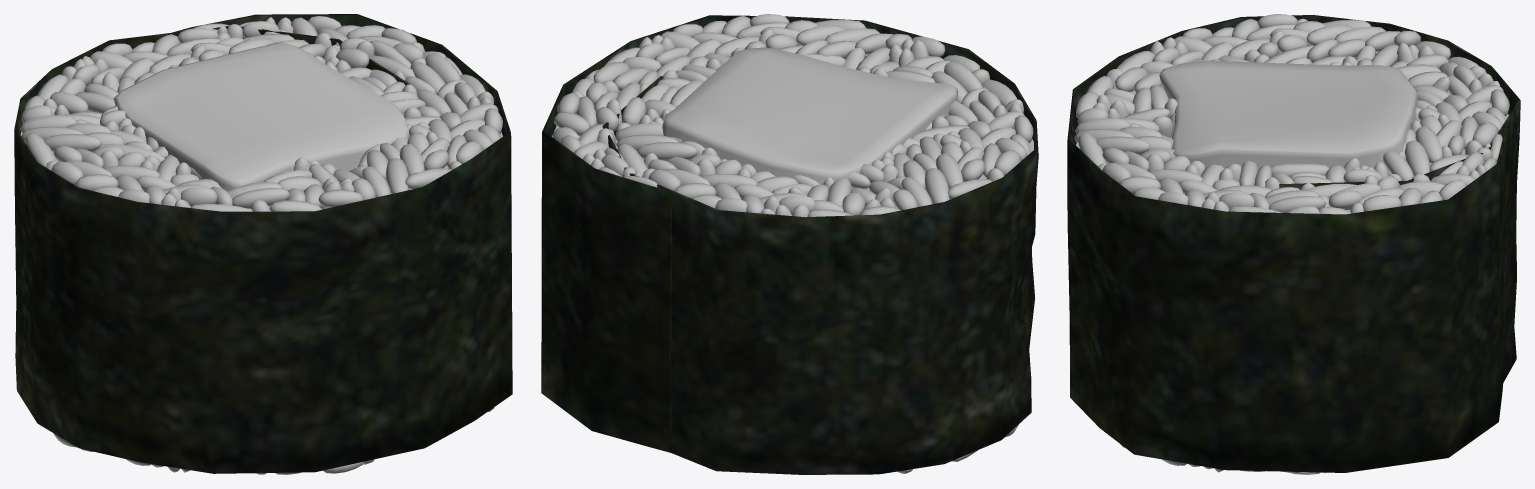
File: RiceRoll_2.fbx
3 views of the same model, side by side, from view 1: azimuth 30°, elevation 25°; view 2: azimuth 150°, elevation 25°; view 3: azimuth 270°, elevation 25° (orthographic). The views are drawn at different scales.
Visible parts, largest first — view 1: EggRoll; view 2: EggRoll; view 3: EggRoll.
Part boxes in pixels (x1=…): EggRoll: x1=14, y1=14, x2=512, y2=474; EggRoll: x1=541, y1=14, x2=1038, y2=474; EggRoll: x1=1067, y1=14, x2=1520, y2=474.
Bounding box in the file's own units: 8.75 × 6 × 8.24.
